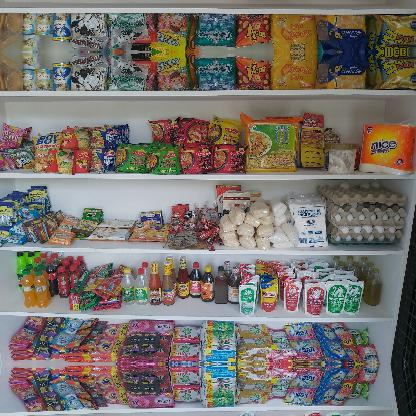Lady-s-Choice: (323, 142, 357, 173)
